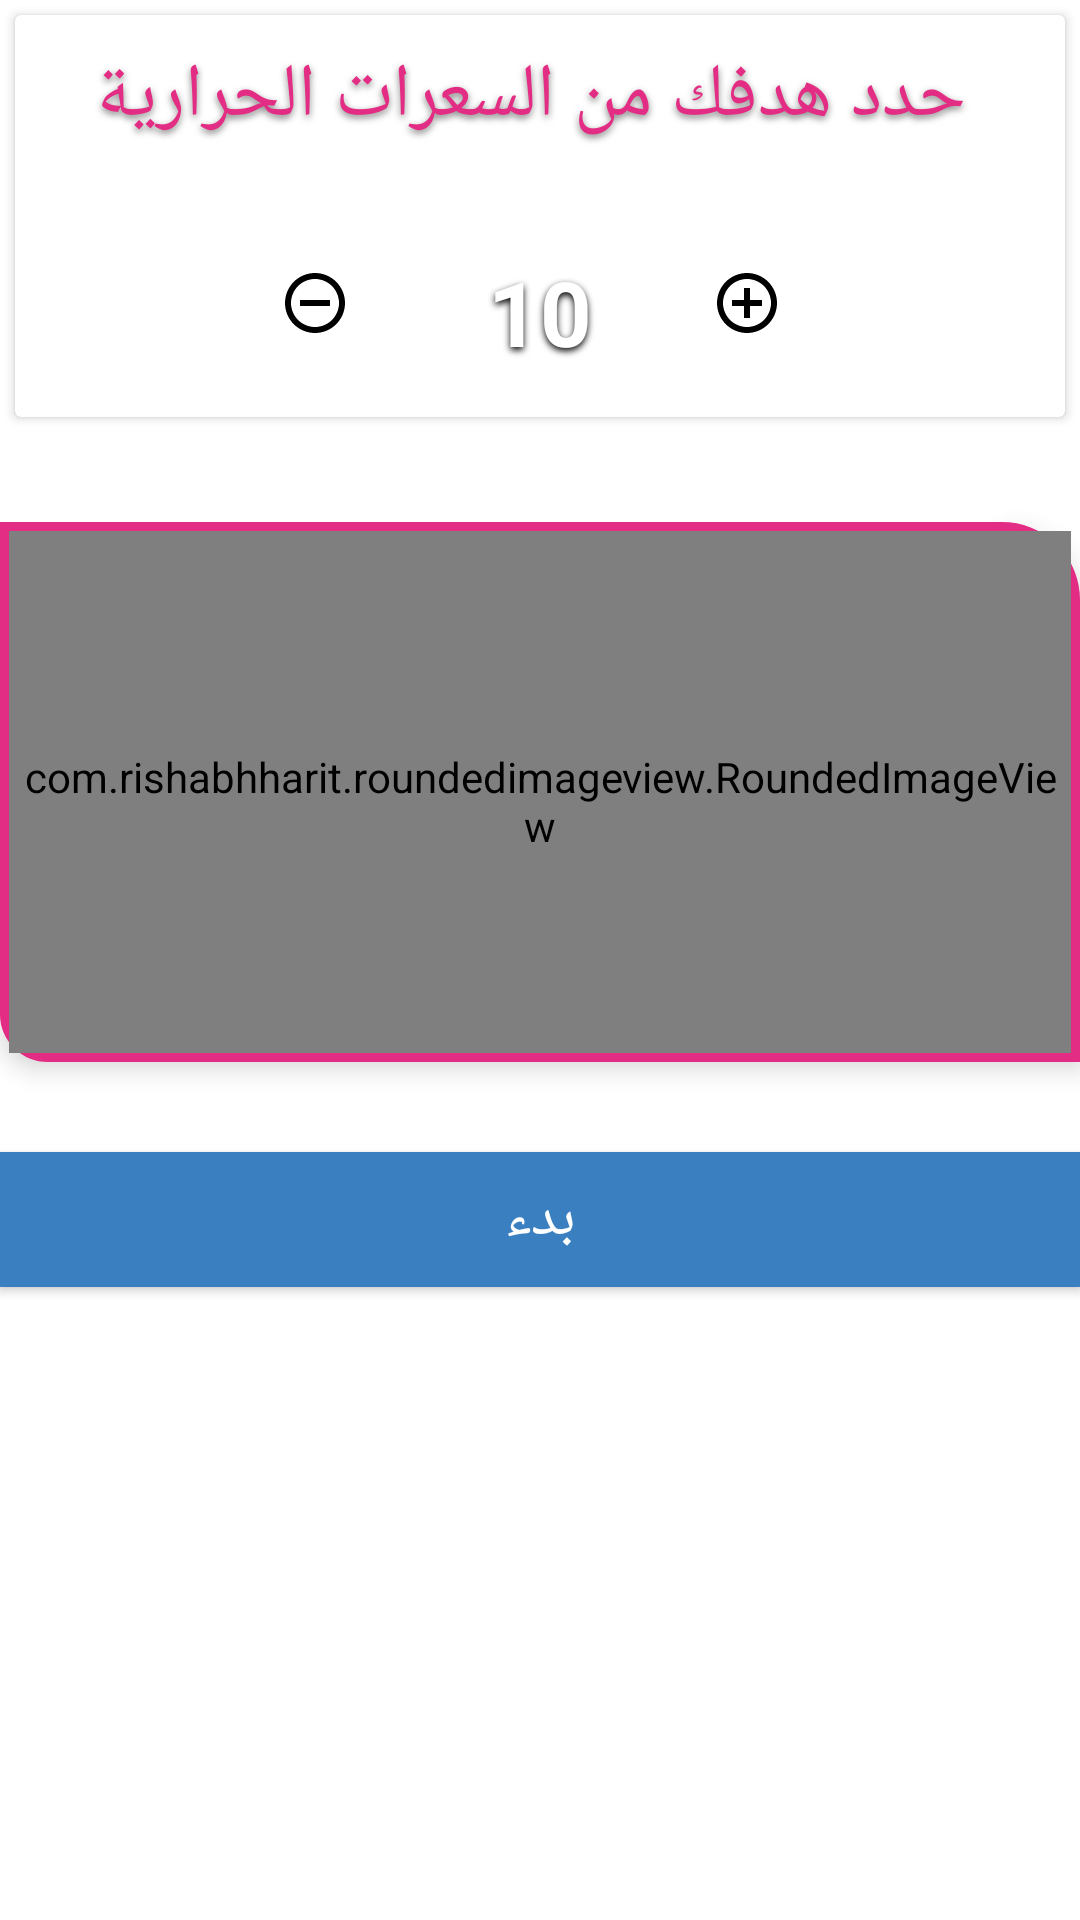

Named icons in this screenshot (1080*1920) and their centers, [x,y]:
add: [747,303]
minus: [315,303]
